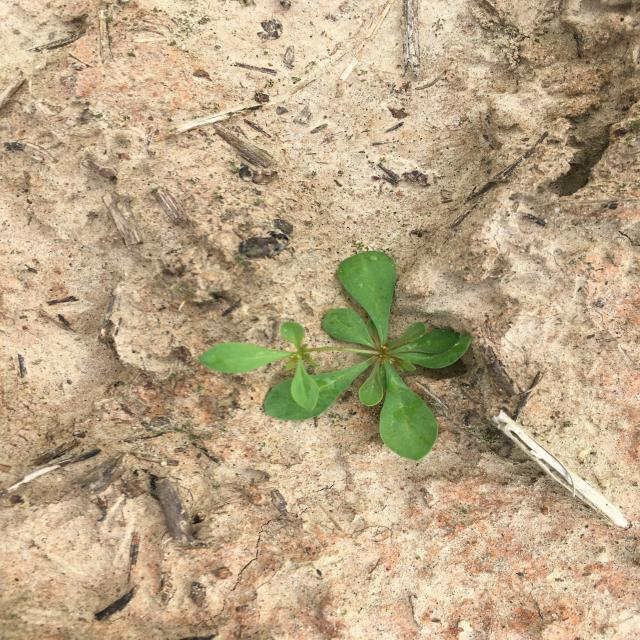Carpetweed: (198, 251, 472, 462)
